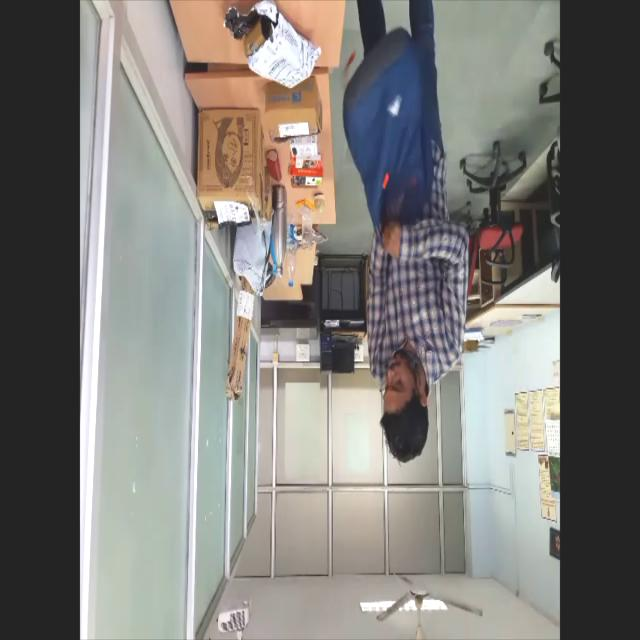shoplifting: (339, 1, 475, 477)
